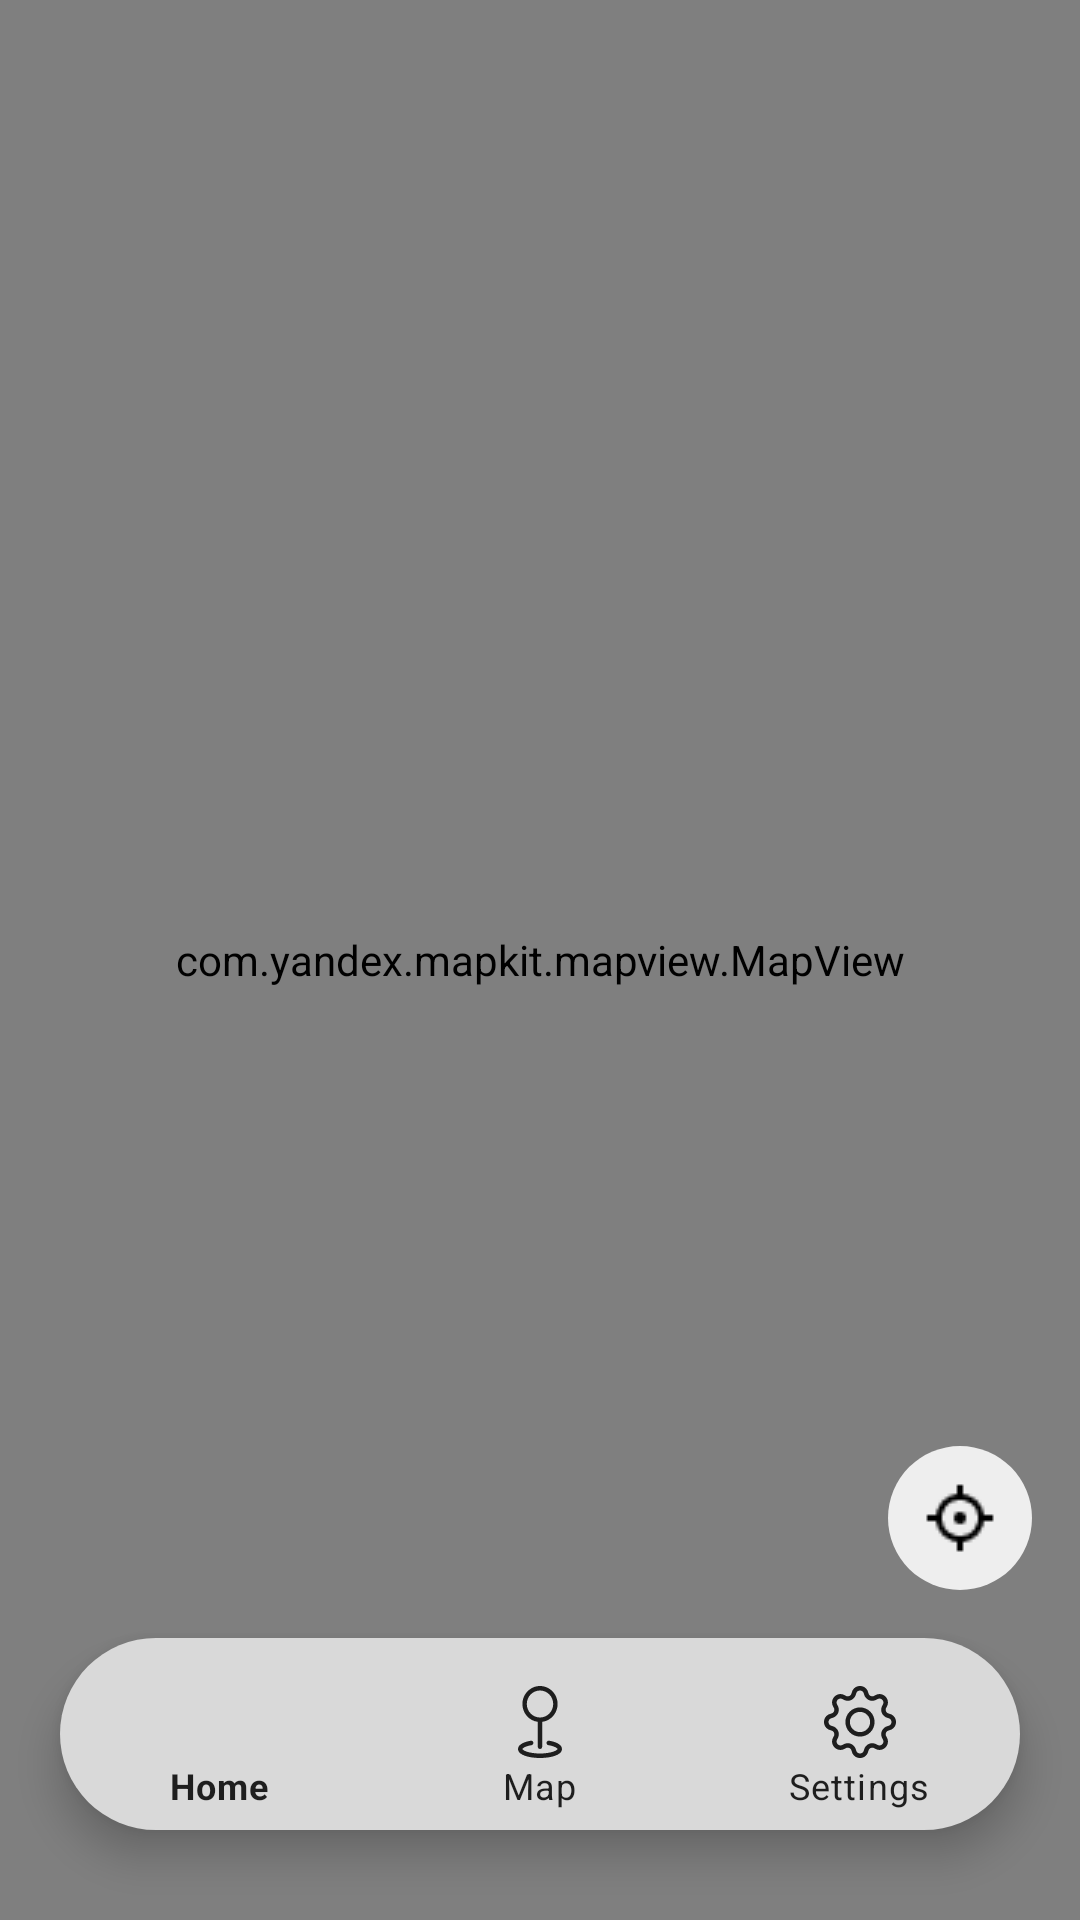

Screen size 1080 × 1920. Icon name, then its box in pixels as Rect(x1, y1, x2, y2):
current location: Rect(888, 1446, 1032, 1590)
